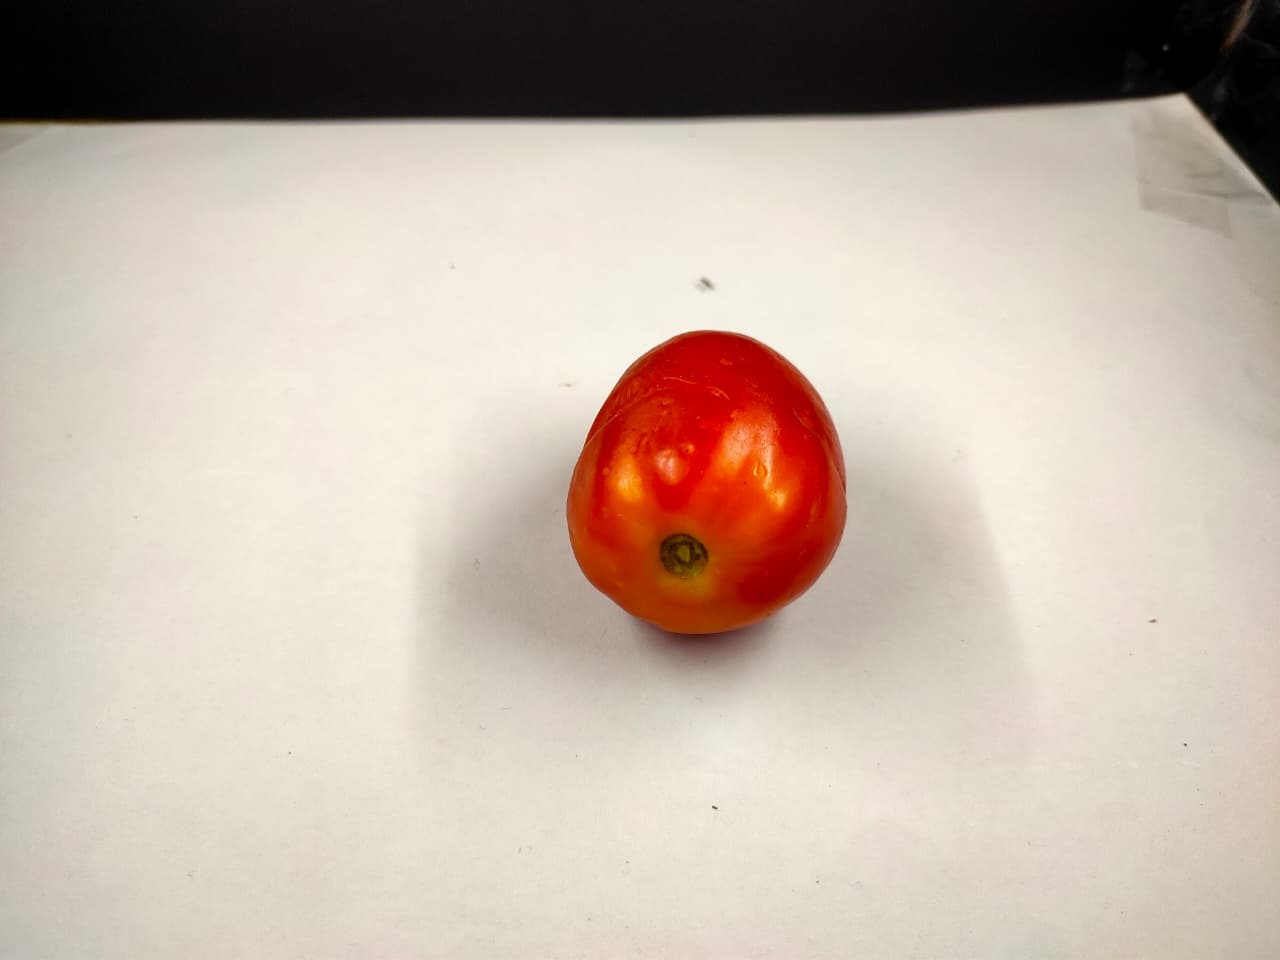damaged: (557, 328, 859, 648)
